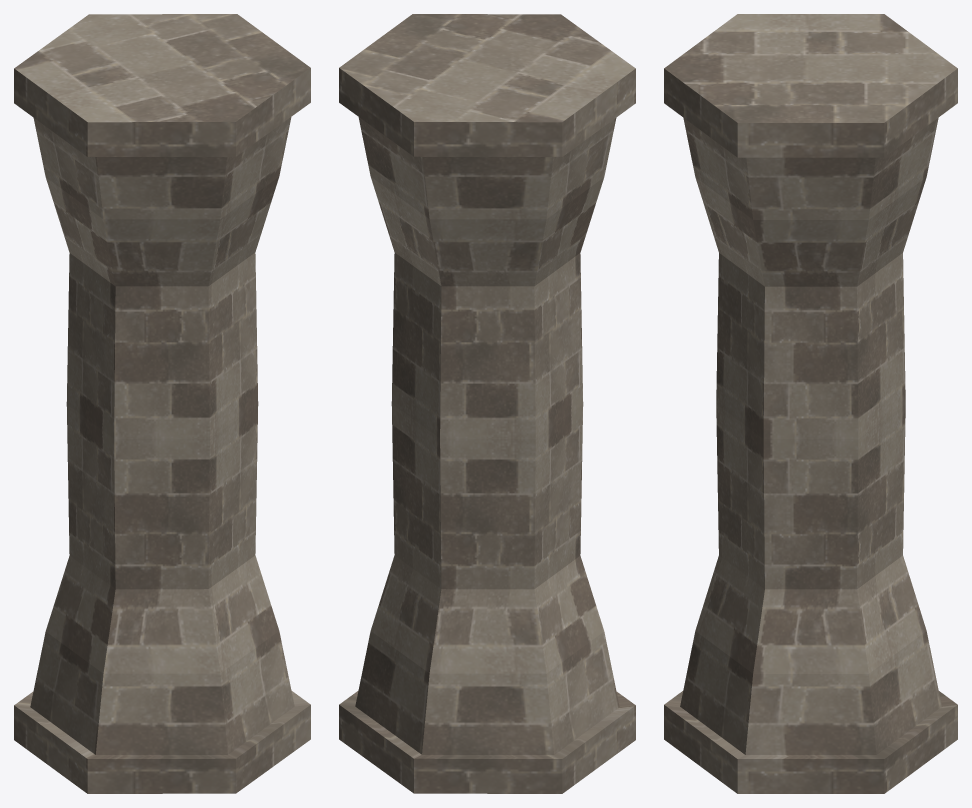
File: pillar.fbx
The picture shows the model from 3 angles, left to right: view 1: azimuth 30°, elevation 25°; view 2: azimuth 150°, elevation 25°; view 3: azimuth 270°, elevation 25°; orthographic projection.
Parts seen in each view (by area): view 1: Cylinder; view 2: Cylinder; view 3: Cylinder.
Part boxes in pixels (bbox=[...]): Cylinder: bbox=[14, 14, 310, 793]; Cylinder: bbox=[339, 14, 635, 793]; Cylinder: bbox=[664, 14, 957, 793].
Bounding box in the file's own units: 280 × 805 × 319.
Materials: 1 (1 with a texture image).
